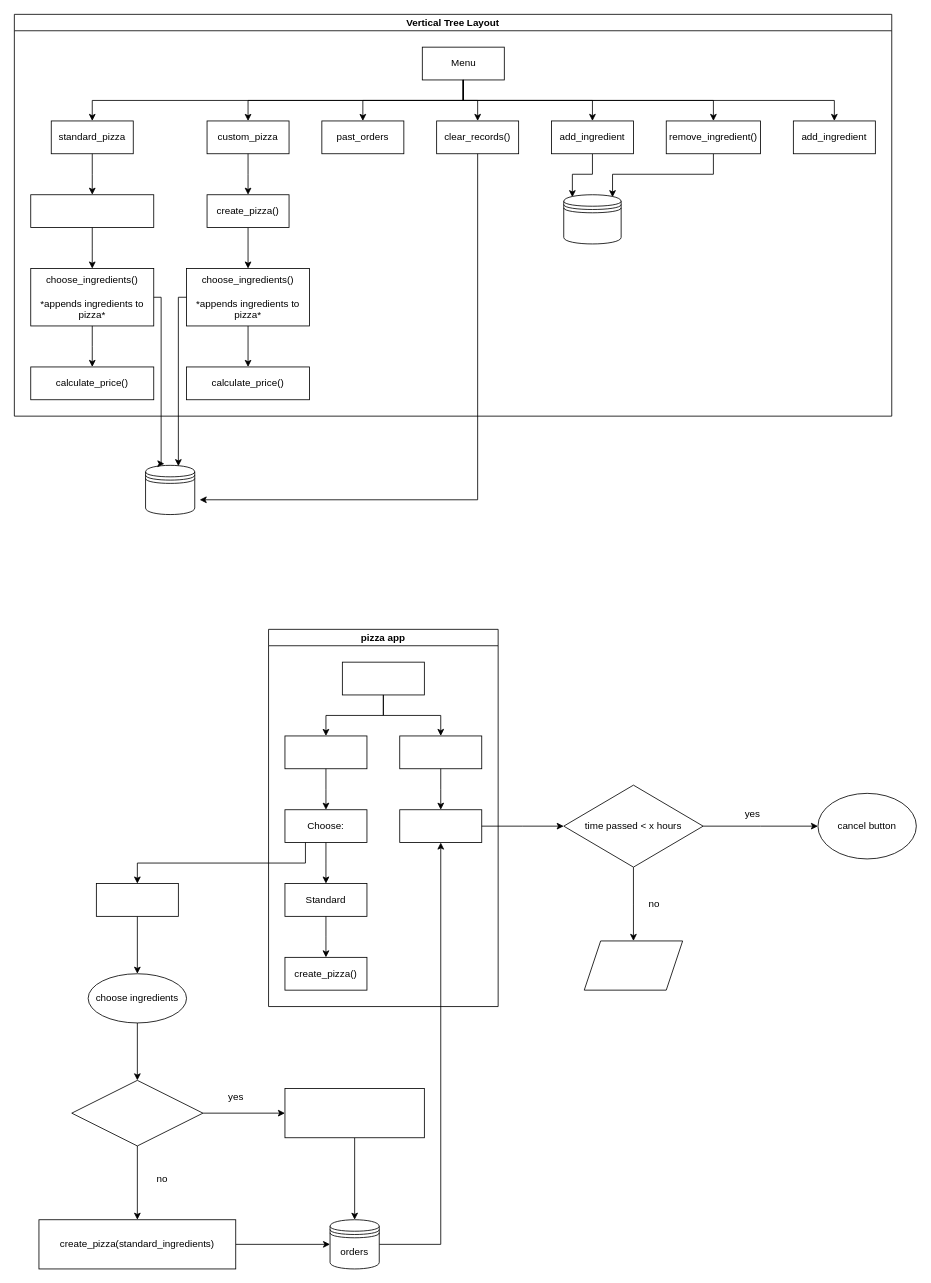
This 931x1283 diagram has some shape labels left out. Here are the shapes that lost their labels. From the top down, the centre of each, then its label:
(x=92, y=211): create_pizza(margerita)
(x=592, y=219): ingredients
(x=170, y=490): pizzas
(x=383, y=678): start
(x=325, y=752): Order
(x=440, y=752): See order history
(x=440, y=826): order in orders
(x=137, y=899): Custom
(x=633, y=965): order delivered
(x=137, y=1113): ingridients_added
(x=354, y=1113): create_pizza(ingredients)
